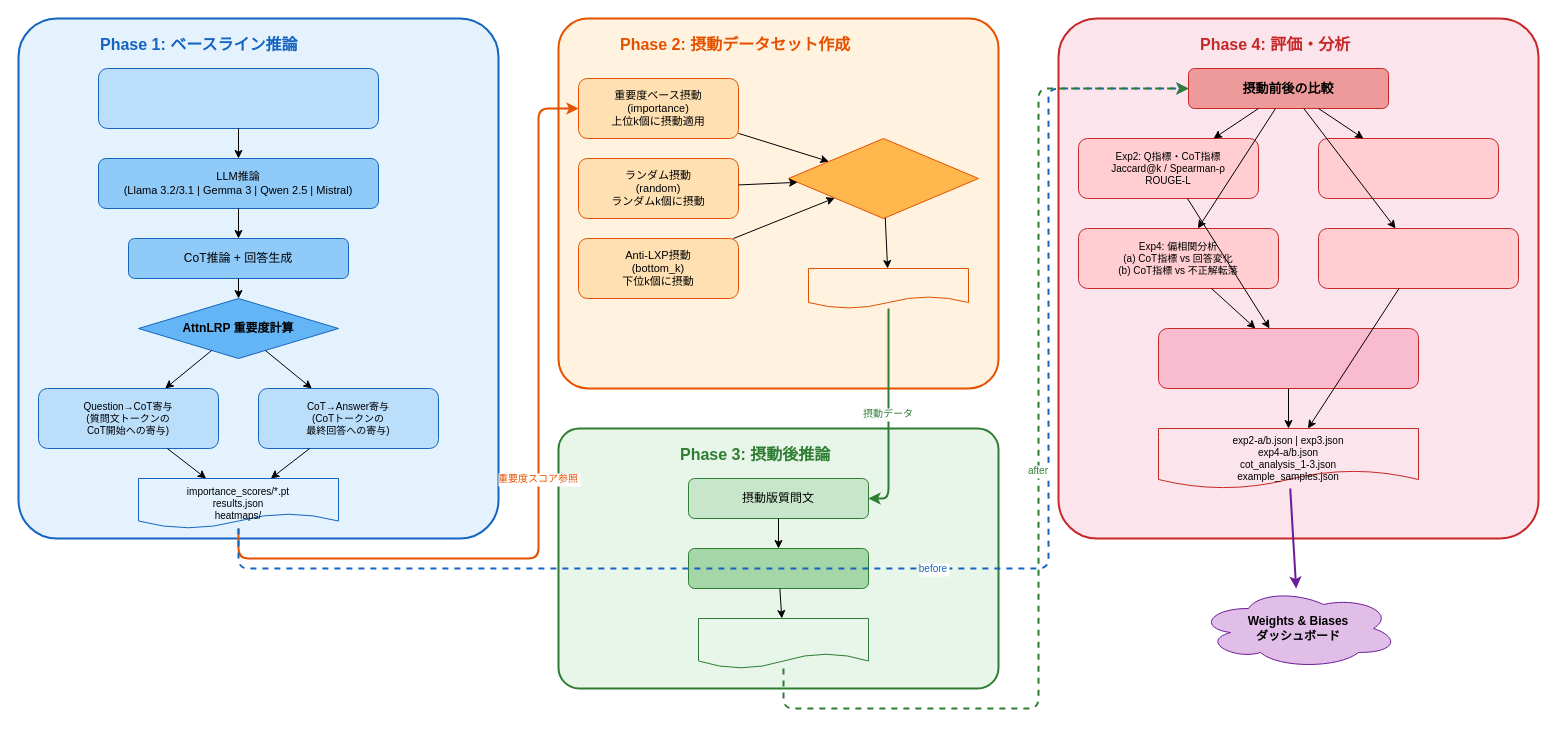
Image size: 1556x734. Some labels were removed from this diagram. The centre of each missing label's shape, as x and y in pixels:
Exp3: Q×CoT相関行列 Spearman ρ: (1408,168)
importance_scores/*.pt results.json: (783,643)
LLM推論 + AttnLRP: (778,568)
perturbed_dataset.json: (888,288)
分析パターン C→C / C→I / I→C / I→I answer_changed / unchanged: (1288,358)
摂動操作 文字の削除 / 置換 / 挿入: (883,178)
質問文 (MMLU / MMLU-Pro / GSM8K SQuAD v2 / ARC / CommonsenseQA): (238,98)
追加分析 (分析1-3) CoT寄与度の詳細分析 共通/CoT固有トークン分類: (1418,258)
